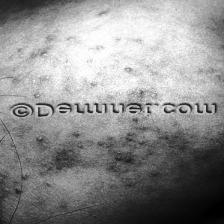Non-Cancerous Skin Condition: (8, 12, 175, 98), (106, 116, 162, 146), (110, 148, 142, 170)
